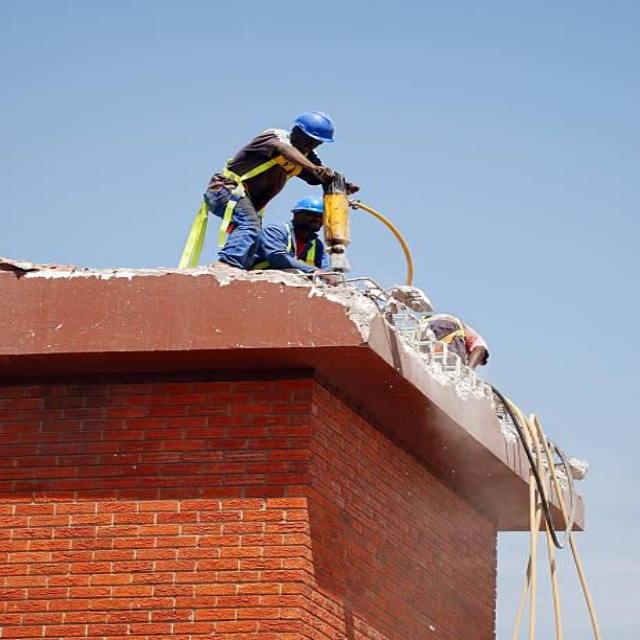Arnes_seguridad: (211, 126, 313, 247)
